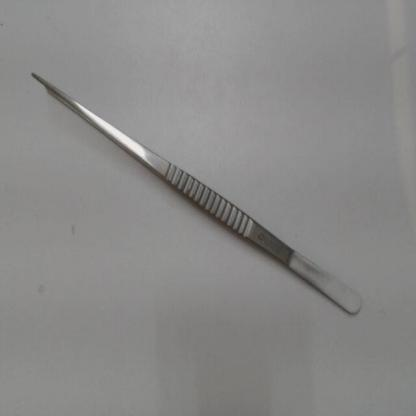DeBakey Dissector: (14, 36, 380, 330)
